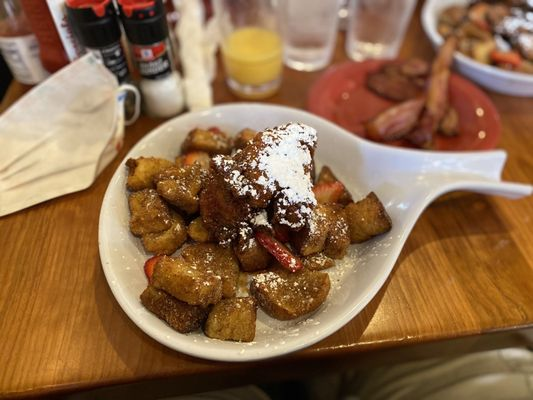pizza: (218, 0, 285, 101), (273, 0, 347, 73), (343, 0, 420, 63)
sushi: (90, 102, 527, 367), (420, 0, 533, 98)
